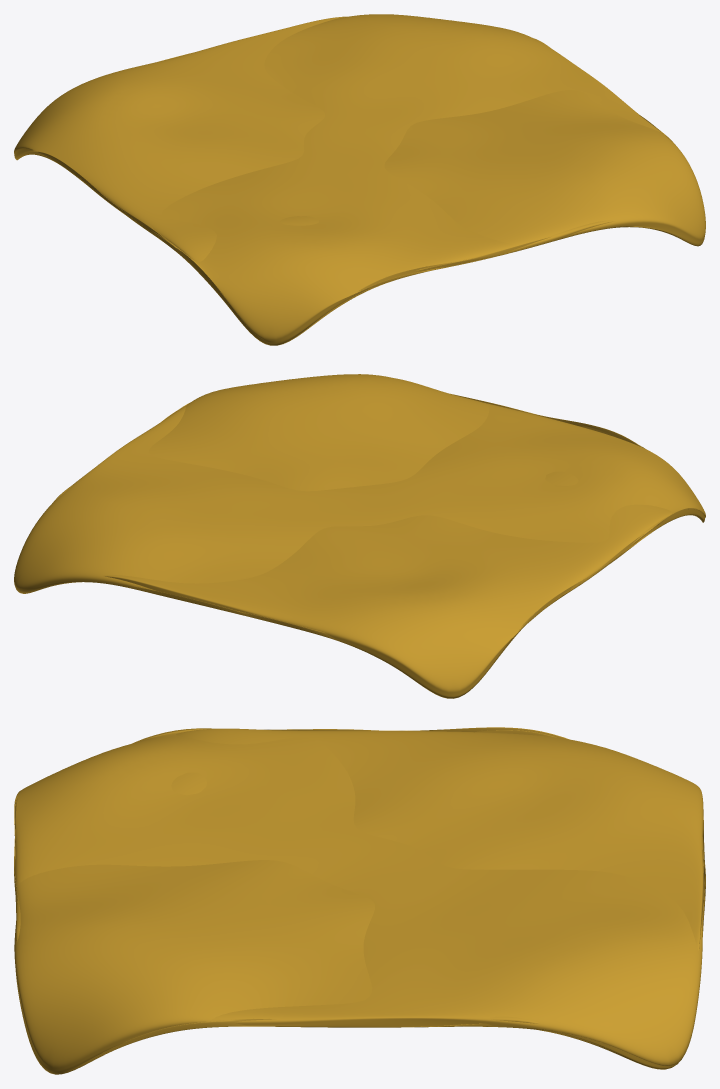
File: cheese.fbx
The picture shows the model from 3 angles, top to bottom: view 1: azimuth 30°, elevation 25°; view 2: azimuth 150°, elevation 25°; view 3: azimuth 270°, elevation 25°; orthographic projection. The views are drawn at different scales.
Visible parts, largest first — view 1: Cube.003; view 2: Cube.003; view 3: Cube.003.
Part boxes in pixels (<box>): Cube.003: <box>14,14,705,345</box>; Cube.003: <box>14,374,705,698</box>; Cube.003: <box>14,727,705,1074</box>.
Bounding box in the file's own units: 179 × 26.41 × 179.
